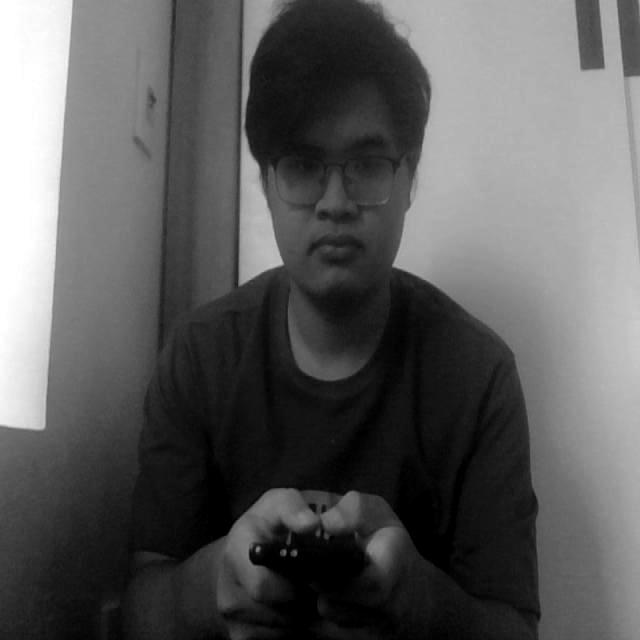phone: (242, 504, 382, 590)
